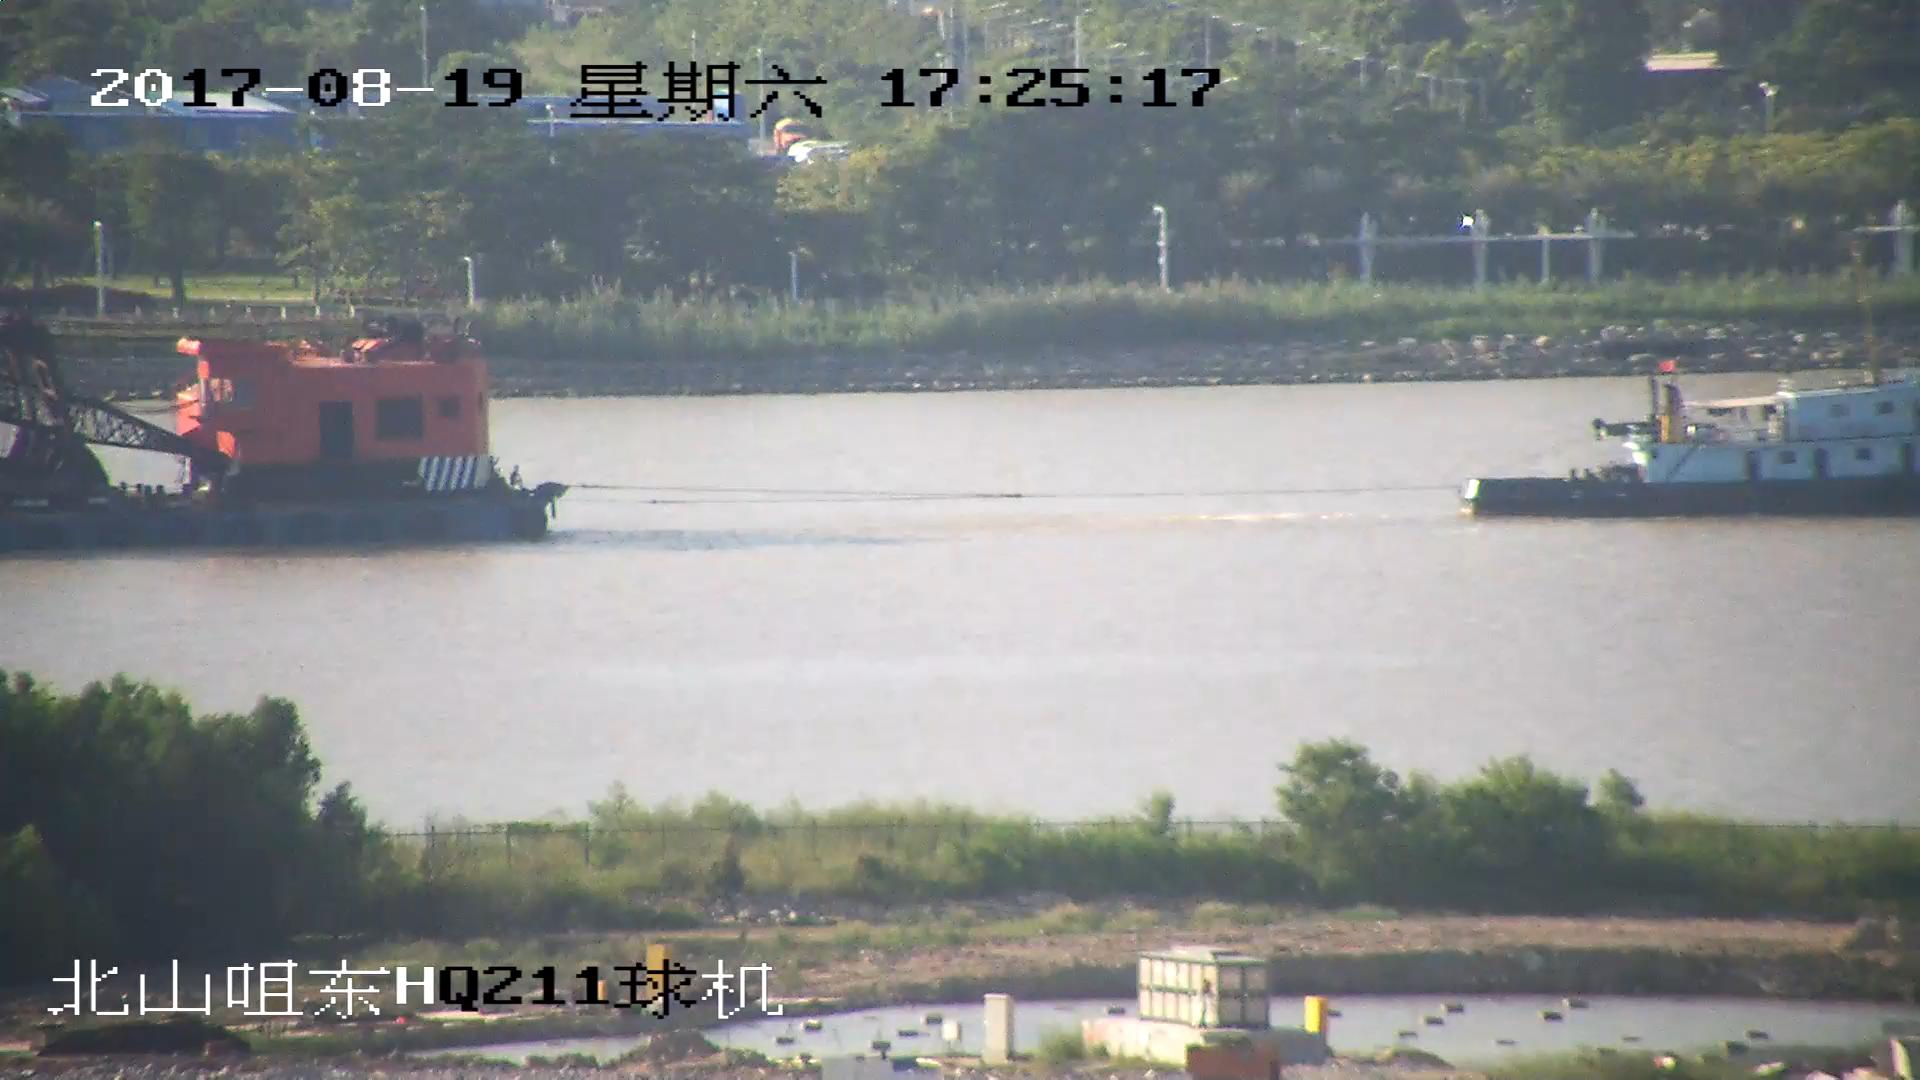fishing boat: (1, 319, 568, 545), (1464, 384, 1920, 518)
